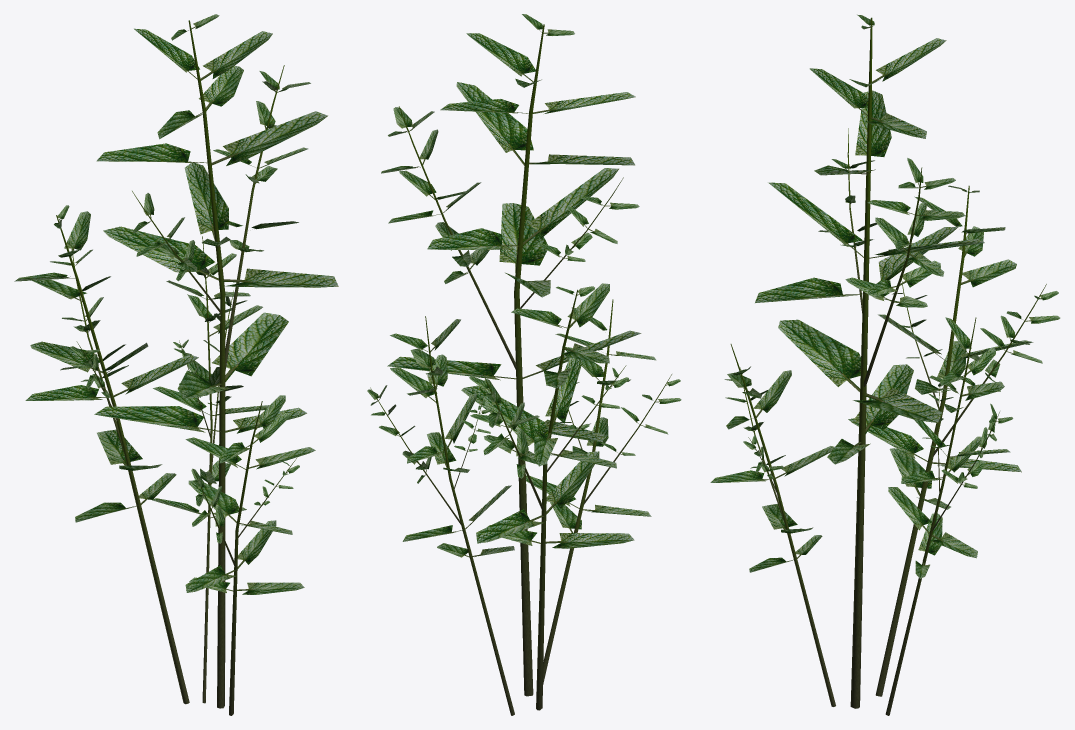
File: Peppermint1.fbx
3 views of the same model, side by side, from view 1: azimuth 30°, elevation 25°; view 2: azimuth 150°, elevation 25°; view 3: azimuth 270°, elevation 25° (orthographic).
Parts seen in each view (by area): view 1: Peppermint1; view 2: Peppermint1; view 3: Peppermint1.
Part boxes in pixels (<box>): Peppermint1: <box>14,14,338,715</box>; Peppermint1: <box>367,14,681,715</box>; Peppermint1: <box>710,14,1060,715</box>.
Size of the model in its own units: 39.56 by 103 by 47.41.
